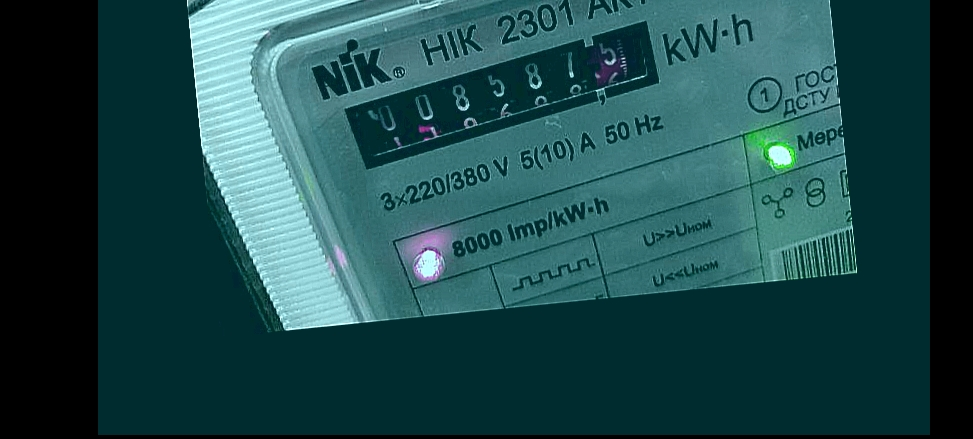0: (409, 87, 438, 123), (372, 99, 401, 133)
5: (483, 67, 509, 100), (595, 33, 620, 66)
6: (603, 68, 623, 87)
7: (557, 46, 582, 82)
8: (447, 79, 474, 113), (520, 57, 546, 92)
screen: (330, 16, 687, 173)
